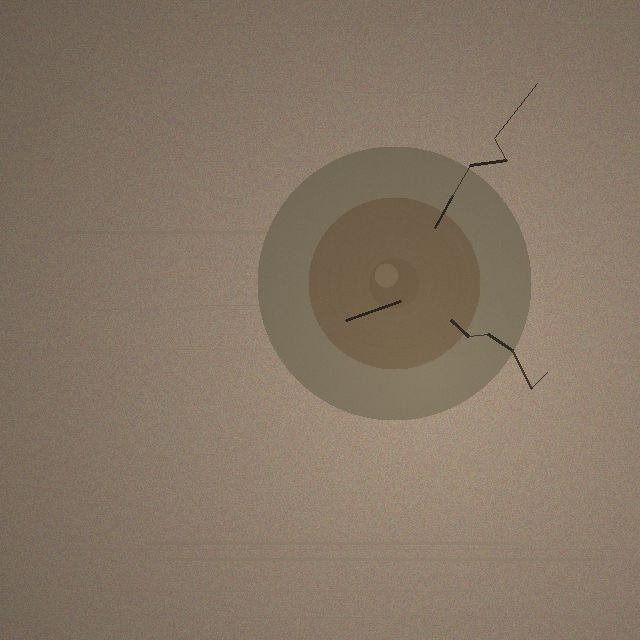crack: (257, 146, 531, 420)
